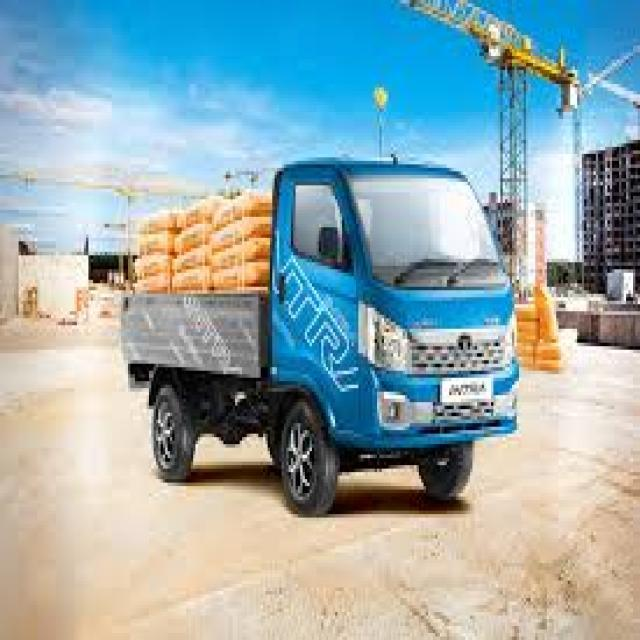uncovered: (130, 160, 517, 507)
